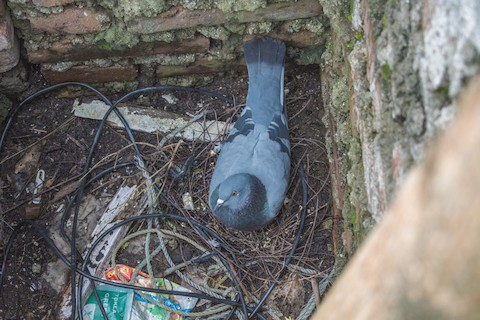pigeon: (200, 35, 299, 232)
